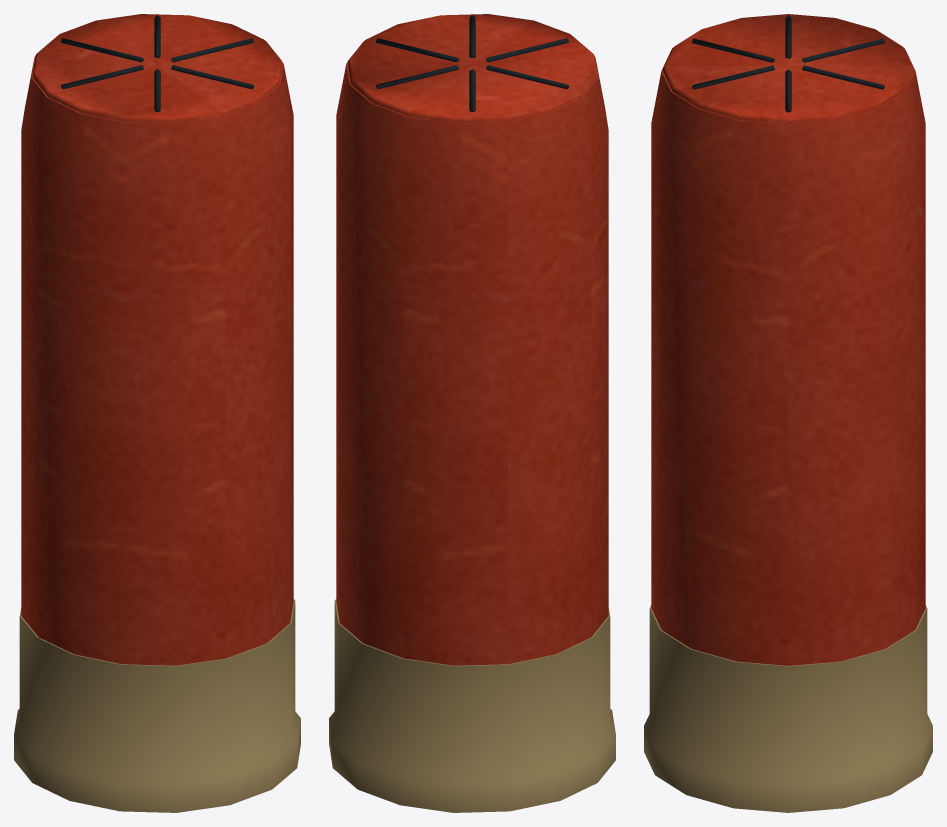
The model's file is shotgun_shell.glb.
The picture shows the model from 3 angles, left to right: view 1: azimuth 30°, elevation 25°; view 2: azimuth 150°, elevation 25°; view 3: azimuth 270°, elevation 25°; orthographic projection.
Visible parts, largest first — view 1: Shell_Exterior; view 2: Shell_Exterior; view 3: Shell_Exterior.
Part boxes in pixels (x1,y1,x2,y2): Shell_Exterior: (14,14,300,812); Shell_Exterior: (329,14,615,812); Shell_Exterior: (644,14,932,812).
Size of the model in its own units: 0.02 by 0.0528 by 0.02.
Materials: 4 (2 with a texture image).
